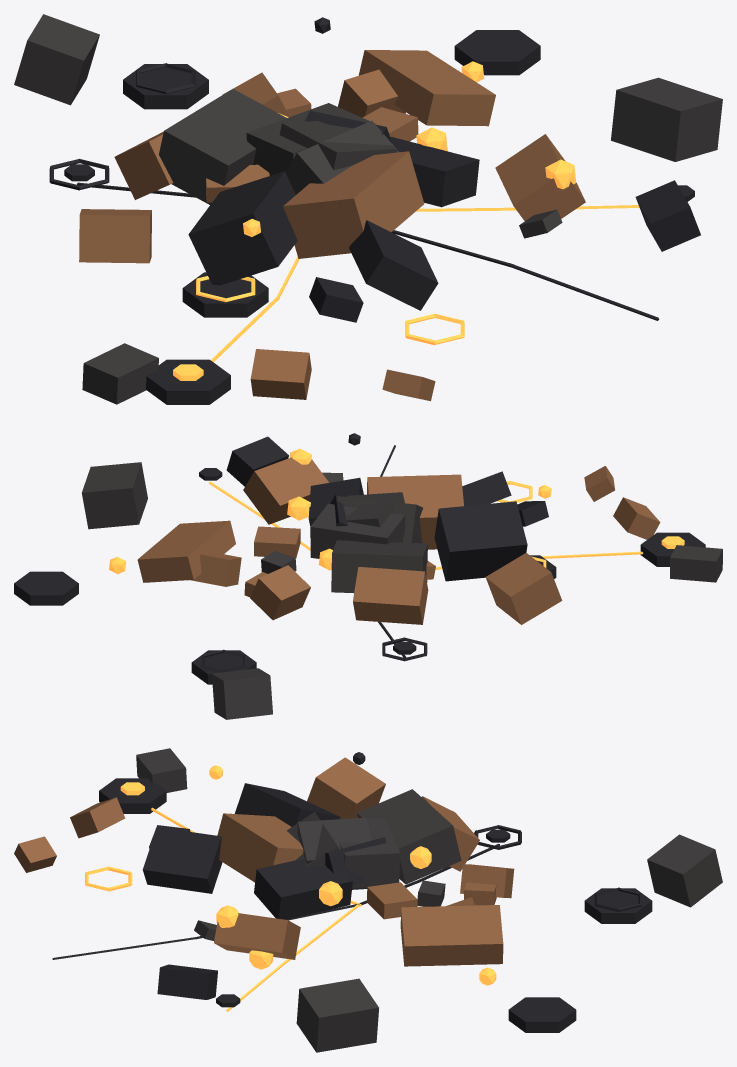
Rendered from Wreck_EMPMineField.fbx.
The picture shows the model from 3 angles, top to bottom: view 1: azimuth 30°, elevation 25°; view 2: azimuth 150°, elevation 25°; view 3: azimuth 270°, elevation 25°; orthographic projection. The views are drawn at different scales.
Visible parts, largest first — view 1: Wreck_EMPMineField; view 2: Wreck_EMPMineField; view 3: Wreck_EMPMineField.
Part boxes in pixels (box(x1,y1,x2,y2)): Wreck_EMPMineField: box(14, 14, 722, 404); Wreck_EMPMineField: box(14, 433, 722, 719); Wreck_EMPMineField: box(14, 748, 722, 1052).
Bounding box in the file's own units: 1.38 × 0.3774 × 1.47.
